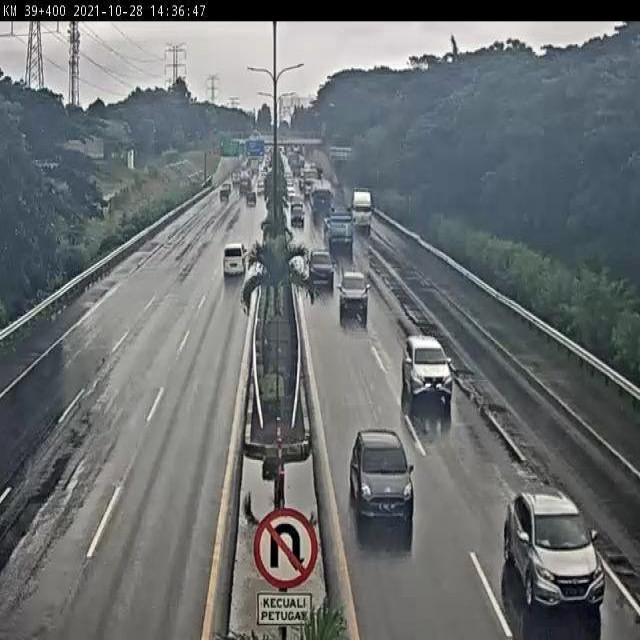big truck: (349, 192, 378, 236), (326, 216, 356, 249)
car: (511, 487, 604, 605), (351, 428, 430, 541), (406, 327, 450, 413), (223, 244, 249, 279), (306, 250, 338, 278), (347, 272, 364, 313), (289, 202, 307, 230)
